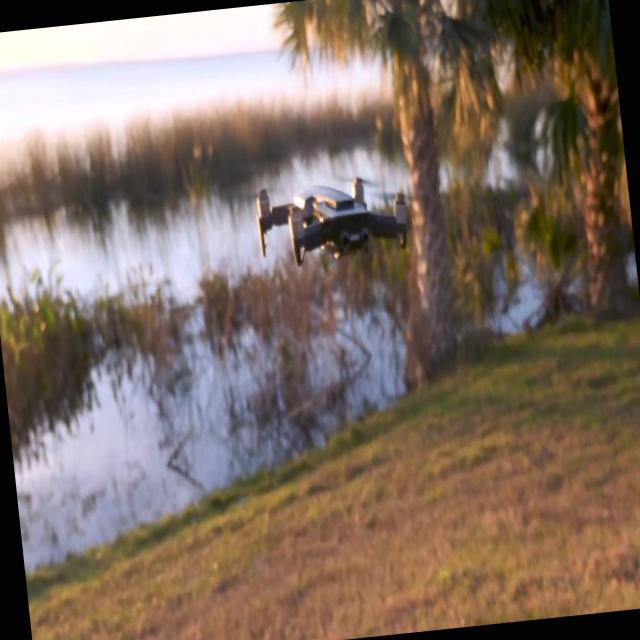drone: (248, 161, 422, 274)
